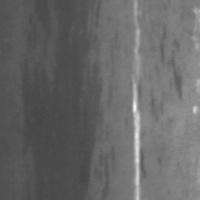inclusion: (24, 0, 105, 197), (155, 25, 186, 102)
scratches: (128, 15, 147, 199)
